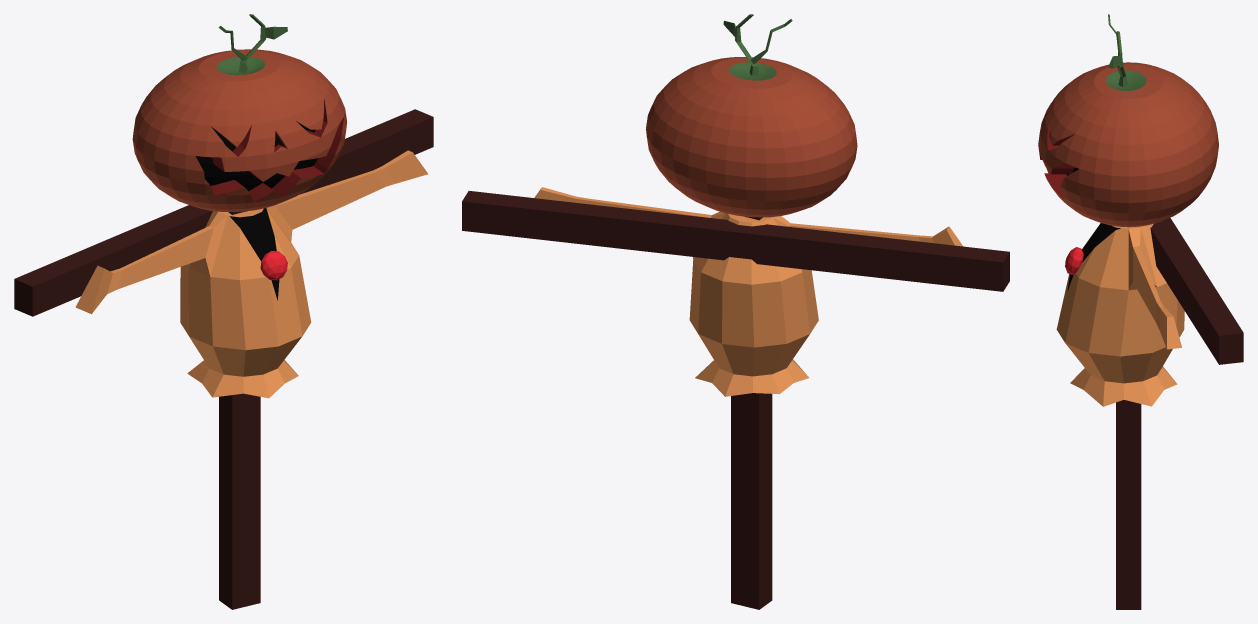
File: espant.fbx
The picture shows the model from 3 angles, left to right: view 1: azimuth 30°, elevation 25°; view 2: azimuth 150°, elevation 25°; view 3: azimuth 270°, elevation 25°; orthographic projection. The views are drawn at different scales.
Visible parts, largest first — view 1: Sphere, Cylinder, Cube.001; view 2: Cube.001, Sphere, Cylinder; view 3: Sphere, Cylinder, Cube.001.
Boxes of the visible parts, x1,y1,x2,y2 form: Sphere: (132,14,346,211); Cylinder: (75,150,428,398); Cube.001: (14,109,433,609); Cube.001: (462,191,1009,609); Sphere: (646,14,857,217); Cylinder: (534,187,963,396); Sphere: (1038,14,1218,227); Cylinder: (1056,223,1184,406); Cube.001: (1116,218,1243,609).
Size of the model in its own units: 597 by 701 by 227.
